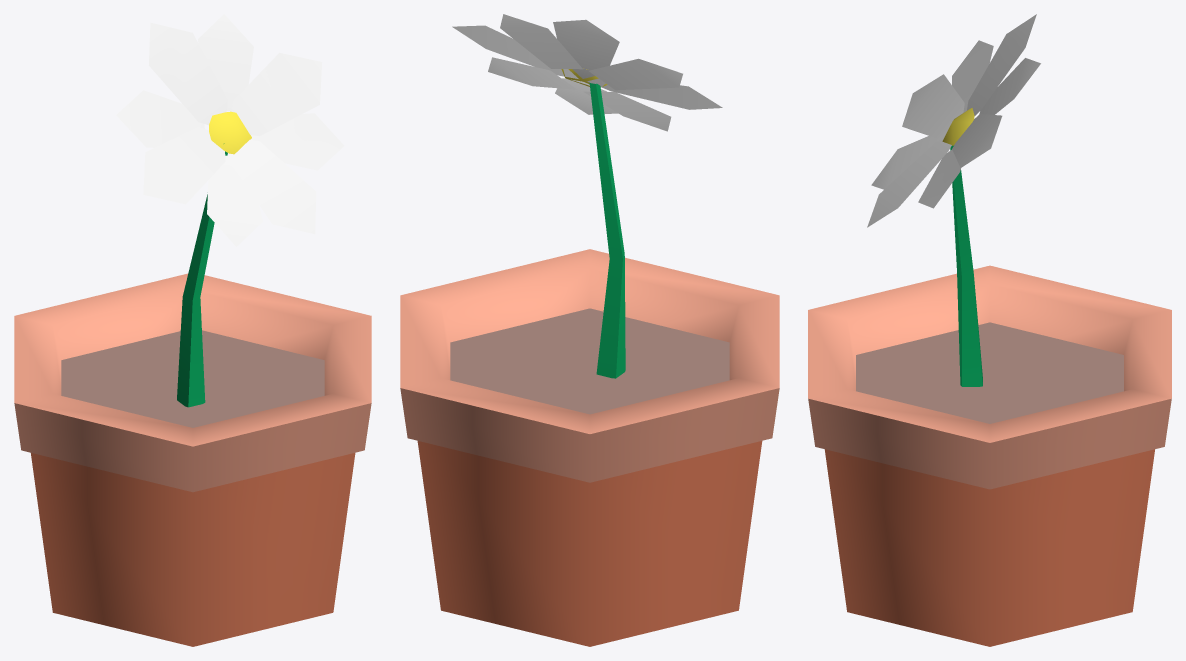
Rendered from flower_018.glb.
3 views of the same model, side by side, from view 1: azimuth 30°, elevation 25°; view 2: azimuth 150°, elevation 25°; view 3: azimuth 270°, elevation 25° (orthographic). The views are drawn at different scales.
Visible parts, largest first — view 1: flower_018; view 2: flower_018; view 3: flower_018.
Part boxes in pixels (x1,y1,x2,y2): flower_018: (14,14,371,646); flower_018: (400,14,779,646); flower_018: (808,14,1171,646).
Size of the model in its own units: 0.1329 by 0.1933 by 0.1151.
Materials: 1 (1 with a texture image).
